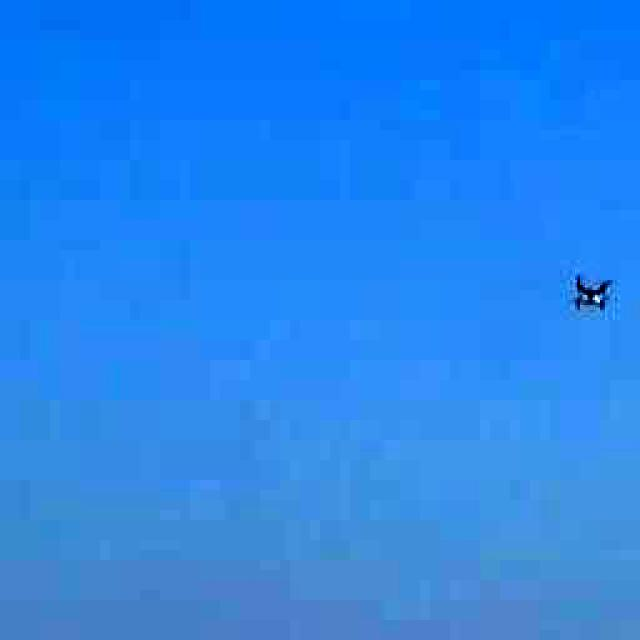bird: (545, 252, 638, 322)
